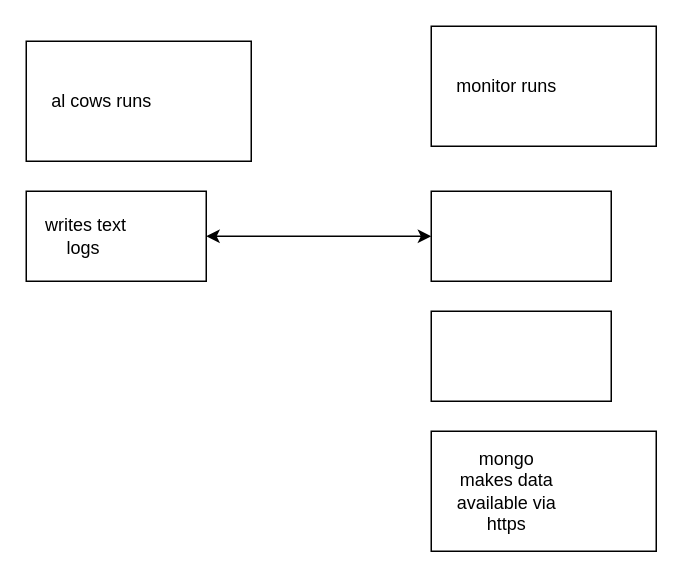
Image size: 683x578. Some labels were removed from this diagram. Each missing label, with the centre of its shape:
adds data to mongo: point (520, 355)
gets data from txt files: point (520, 235)
